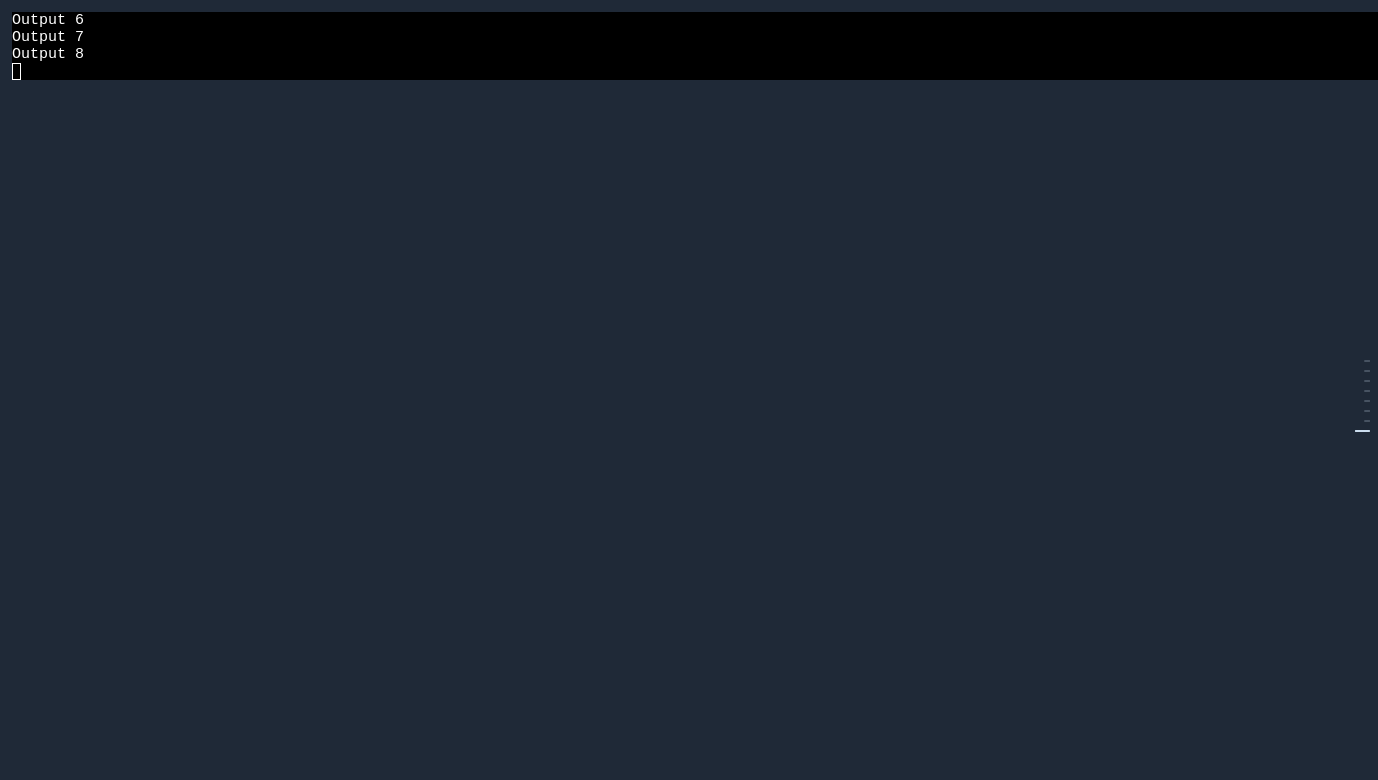
Test case: terminal output history › drags through the complete history and cancels a press without jumping
The image size is (1378, 780).
Press the mouse on the element named "Terminal output history" at [1367, 361], box [1355,360,1370,432]
Press the mouse on the element named "Terminal output history" at [1367, 361], box [1355,360,1370,432]
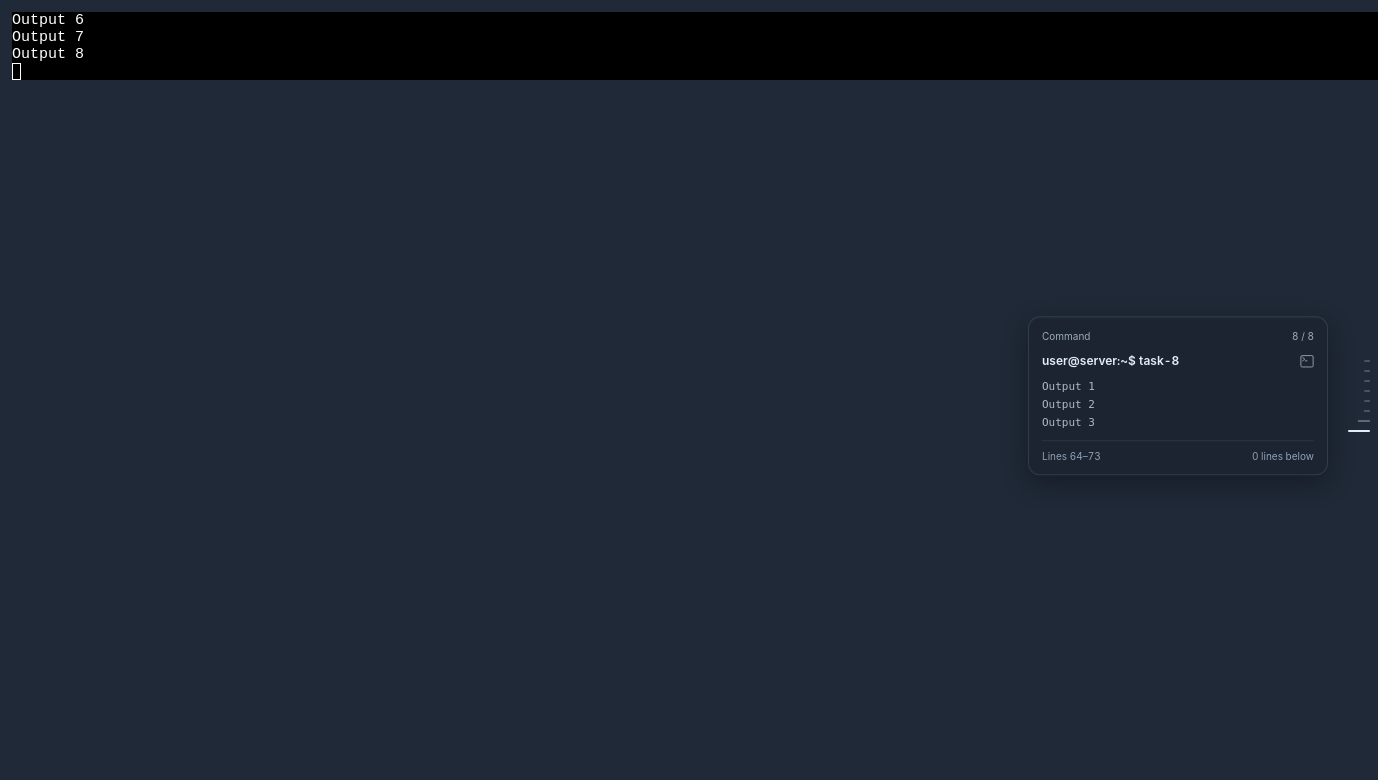
Press Home in the element named "Terminal output history", box [1348,360,1370,432]
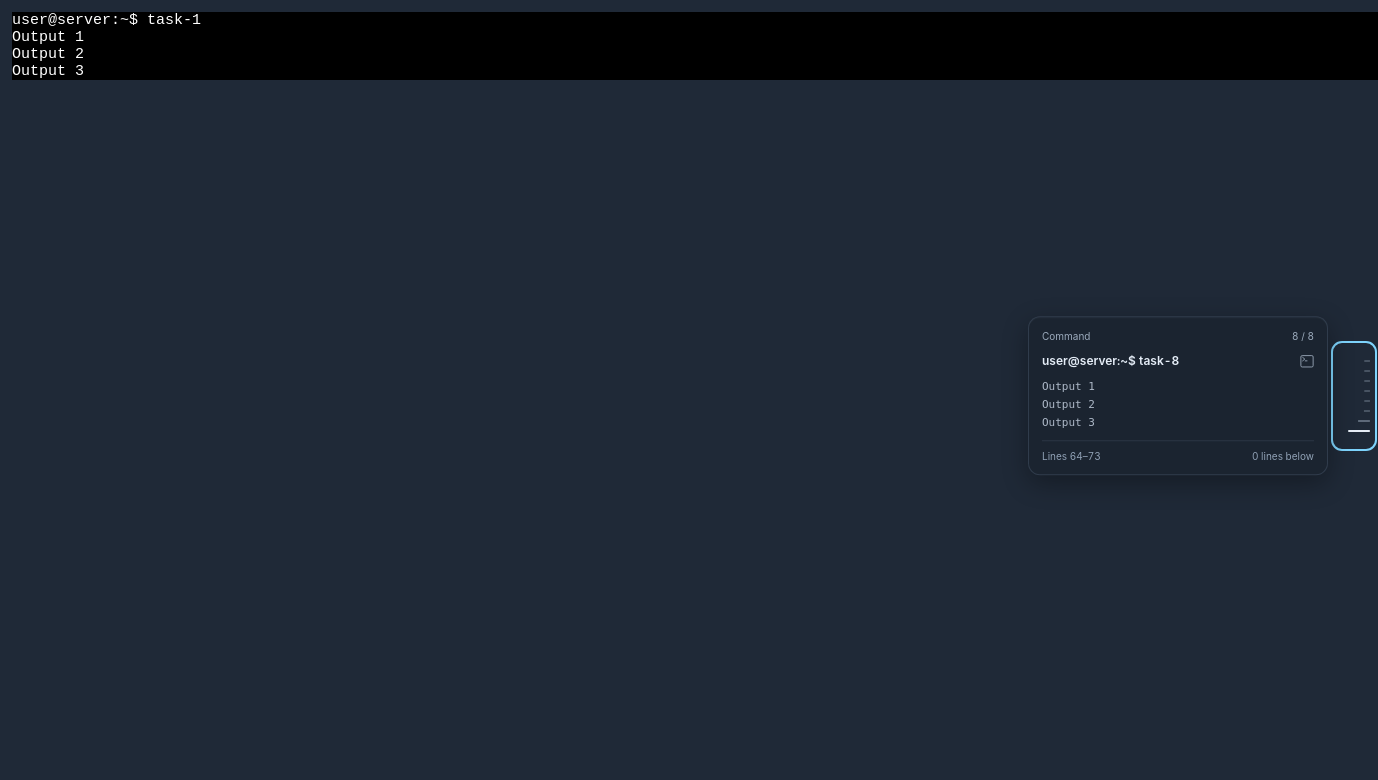
Press Escape in the element named "Terminal output history", box [1348,360,1370,432]
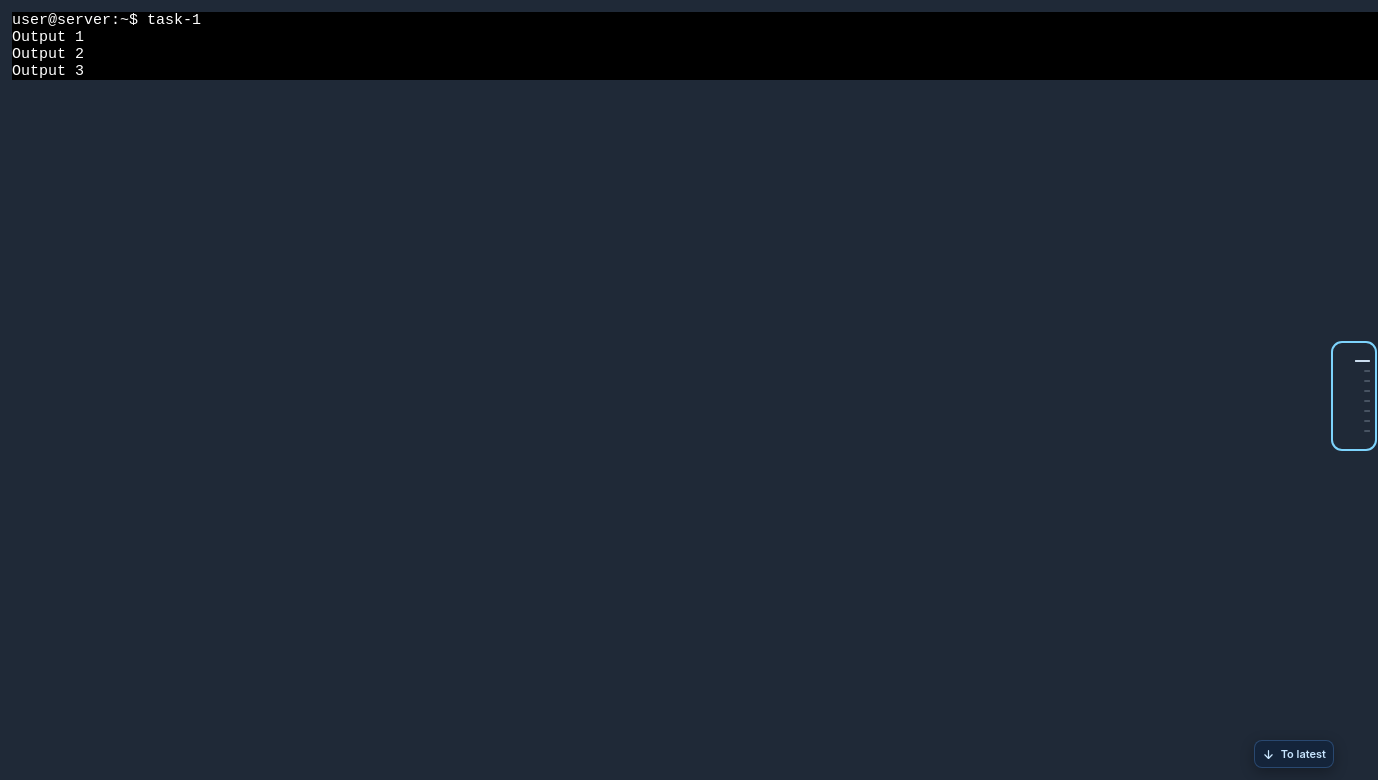
Check: the tooltip is gone
